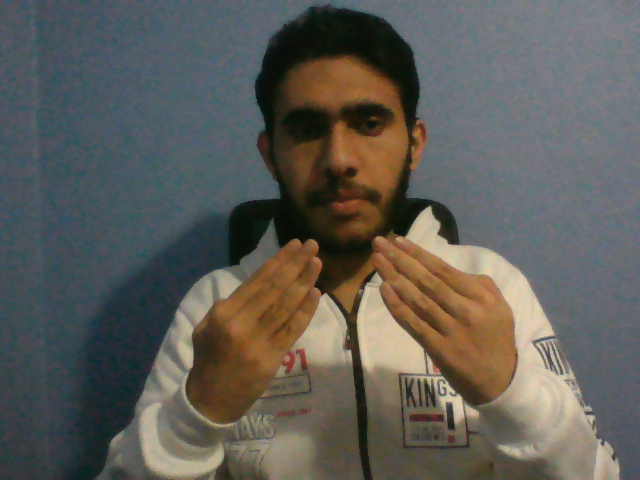thanks: (185, 227, 521, 421)
